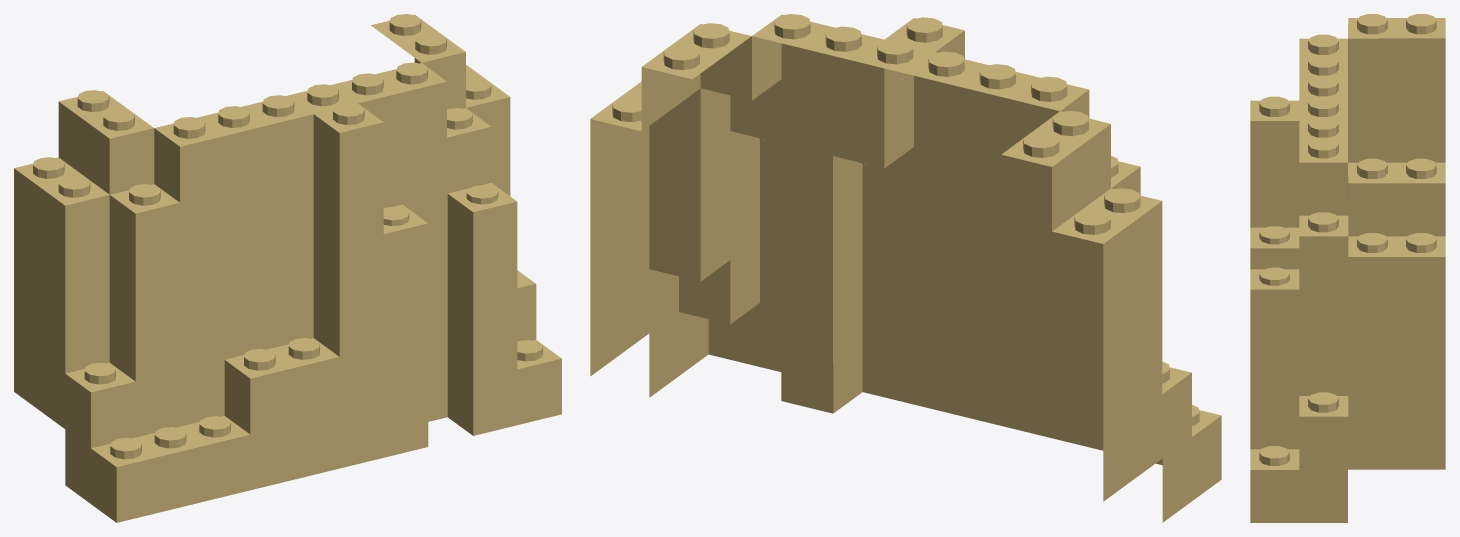
The model's file is Rock_3.fbx.
3 views of the same model, side by side, from view 1: azimuth 30°, elevation 25°; view 2: azimuth 150°, elevation 25°; view 3: azimuth 270°, elevation 25° (orthographic). The views are drawn at different scales.
Parts seen in each view (by area): view 1: Part.009; view 2: Part.009; view 3: Part.009.
Boxes of the visible parts, <box> form: Part.009: <box>14,14,561,522</box>; Part.009: <box>590,14,1221,522</box>; Part.009: <box>1250,14,1445,522</box>.
Size of the model in its own units: 7992 by 5901 by 3192.
